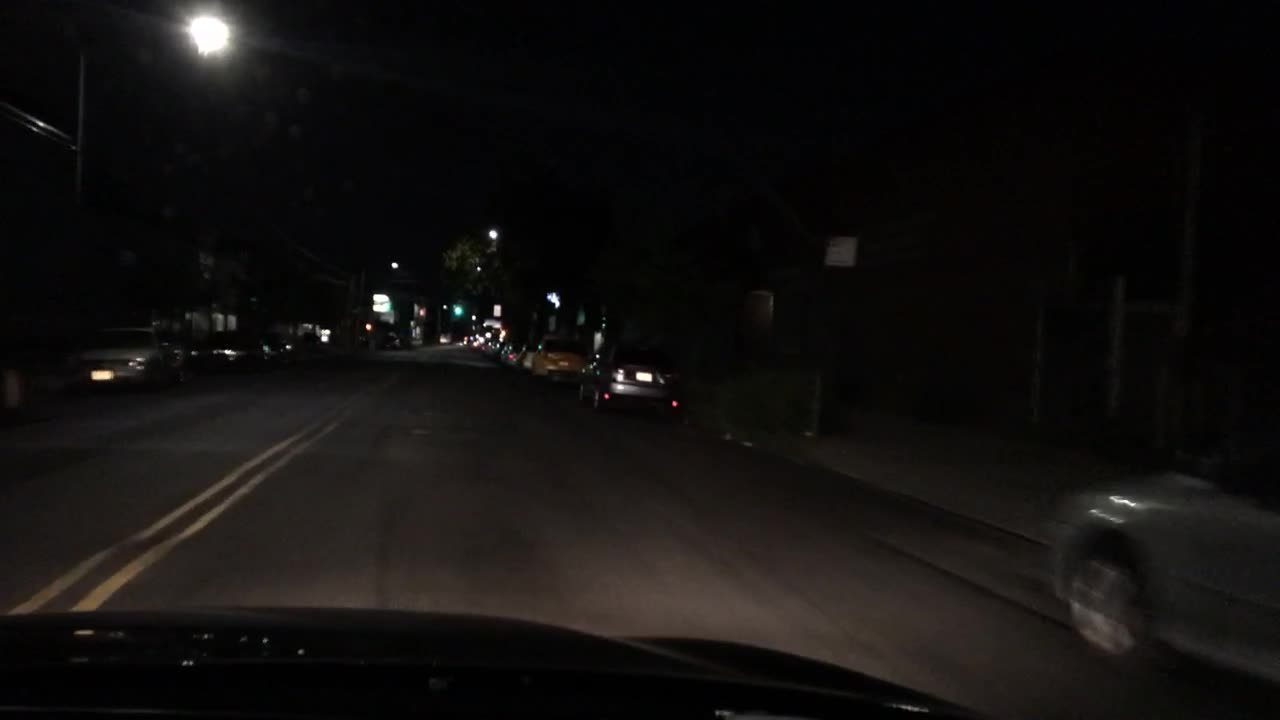car: (1044, 434, 1278, 711), (577, 339, 680, 416), (78, 324, 189, 392), (188, 326, 264, 371), (523, 335, 585, 384), (257, 329, 296, 360), (285, 329, 320, 351), (499, 339, 528, 365), (382, 330, 408, 350), (460, 329, 484, 347), (480, 338, 504, 356), (406, 323, 423, 347), (481, 326, 505, 339), (436, 329, 451, 344)
traffic light: (451, 305, 463, 319), (360, 320, 373, 332), (415, 307, 424, 319)
traffic sign: (827, 236, 856, 265), (490, 304, 501, 317), (546, 317, 555, 332)
